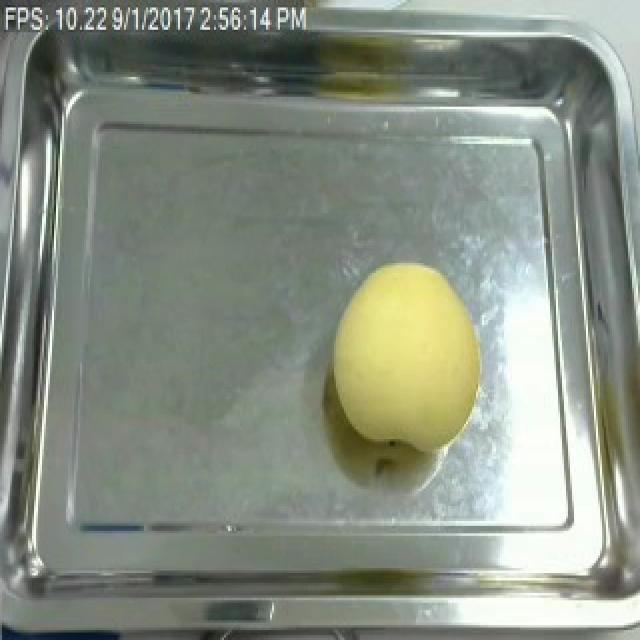Fruit: (322, 256, 492, 457)
